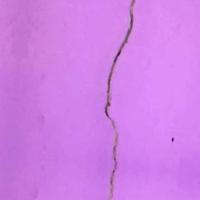crack: (90, 0, 148, 199)
